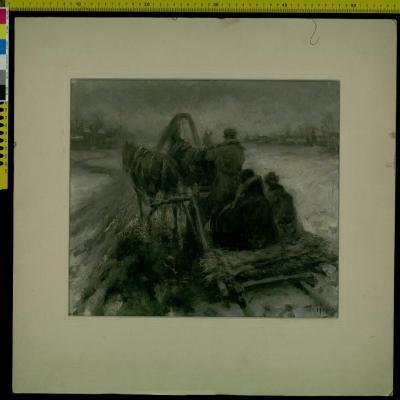painting: (65, 74, 343, 322)
